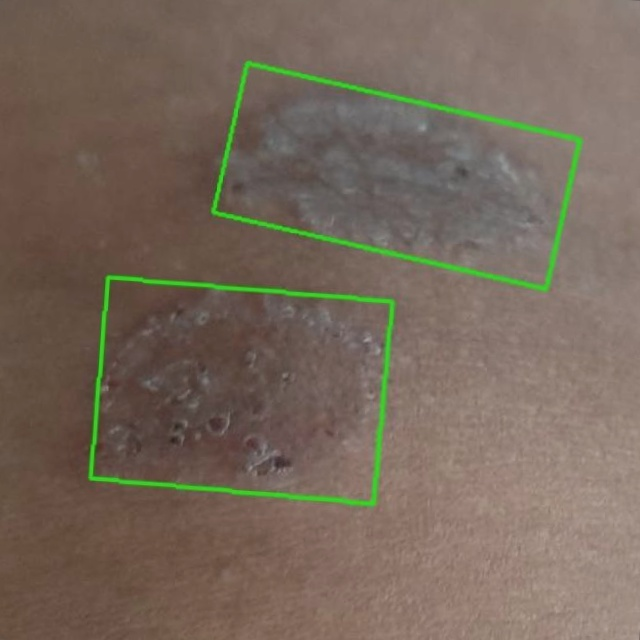Tinea Corporis: (212, 63, 580, 287), (90, 276, 391, 502)
